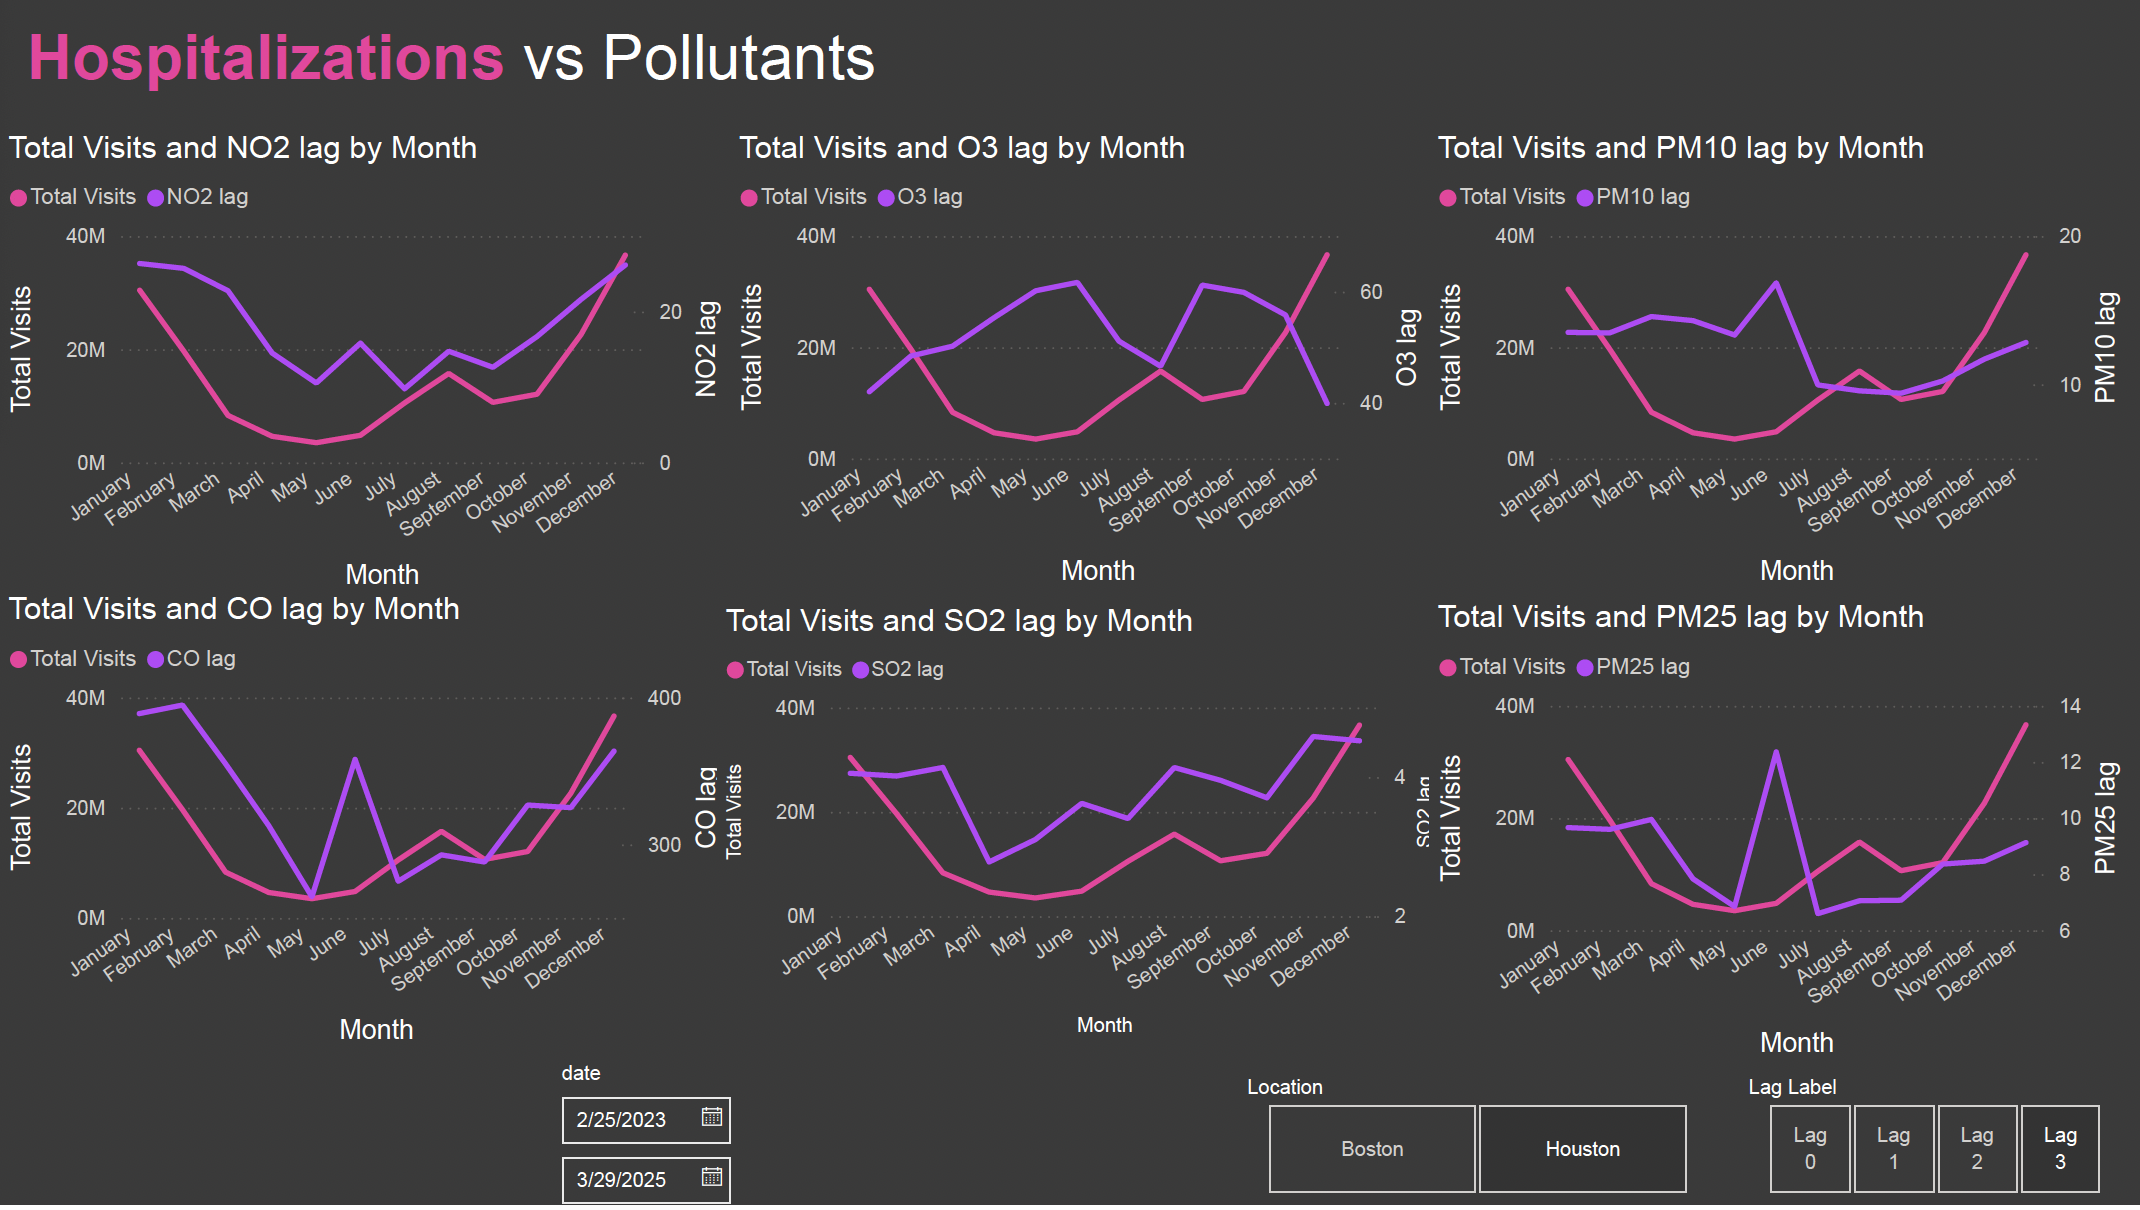

This screenshot's page, from the dashboard's own definition file:
{"tool":"powerbi","page":{"name":"Pollutants","canvas":[1280,720],"ordinal":2},"visuals":[{"type":"lineChart","fields":{"Category":["Combined.date.Variation.Date Hierarchy.Year","Combined.date.Variation.Date Hierarchy.Quarter","Combined.date.Variation.Date Hierarchy.Month","Combined.date.Variation.Date Hierarchy.Day"],"Y":["Avg(Combined.total_visits_smoothed_combined)"],"Y2":["Combined.Selected NO2 Lag"]},"box":[0,77.3,436.6,280.7],"z":0},{"type":"lineChart","fields":{"Category":["Combined.date.Variation.Date Hierarchy.Year","Combined.date.Variation.Date Hierarchy.Quarter","Combined.date.Variation.Date Hierarchy.Month","Combined.date.Variation.Date Hierarchy.Day"],"Y":["Avg(Combined.total_visits_smoothed_combined)"],"Y2":["Combined.Selected CO Lag"]},"box":[0,353.3,436.6,277.2],"z":1000},{"type":"lineChart","fields":{"Category":["Combined.date.Variation.Date Hierarchy.Year","Combined.date.Variation.Date Hierarchy.Quarter","Combined.date.Variation.Date Hierarchy.Month","Combined.date.Variation.Date Hierarchy.Day"],"Y":["Avg(Combined.total_visits_smoothed_combined)"],"Y2":["Combined.Selected O3 Lag"]},"box":[436.6,77.3,418.7,278.4],"z":2000},{"type":"lineChart","fields":{"Category":["Combined.date.Variation.Date Hierarchy.Year","Combined.date.Variation.Date Hierarchy.Quarter","Combined.date.Variation.Date Hierarchy.Month","Combined.date.Variation.Date Hierarchy.Day"],"Y":["Avg(Combined.total_visits_smoothed_combined)"],"Y2":["Combined.Selected SO2 Lag"]},"box":[428.6,360,435.7,264.3],"z":3000},{"type":"lineChart","fields":{"Category":["Combined.date.Variation.Date Hierarchy.Year","Combined.date.Variation.Date Hierarchy.Quarter","Combined.date.Variation.Date Hierarchy.Month","Combined.date.Variation.Date Hierarchy.Day"],"Y":["Avg(Combined.total_visits_smoothed_combined)"],"Y2":["Combined.Selected PM10 Lag"]},"box":[855.3,77.3,418.7,278.4],"z":4000},{"type":"lineChart","fields":{"Category":["Combined.date.Variation.Date Hierarchy.Year","Combined.date.Variation.Date Hierarchy.Quarter","Combined.date.Variation.Date Hierarchy.Month","Combined.date.Variation.Date Hierarchy.Day"],"Y":["Avg(Combined.total_visits_smoothed_combined)"],"Y2":["Combined.Selected PM25 Lag"]},"box":[855.3,358.1,418.7,279.6],"z":5000},{"type":"slicer","fields":{"Values":["Combined.date"]},"box":[261.7,643.6,440.1,76.1],"z":6000},{"type":"slicer","fields":{"Values":["Combined.Location"]},"box":[732.8,637.6,299.8,82.1],"z":7000},{"type":"slicer","fields":{"Values":["LagSelector.Lag Label"]},"box":[1032.6,637.6,247.4,82.1],"z":8000},{"type":"textbox","box":[10.7,8.3,1241.9,58.3],"z":9000}]}

Visuals, with their boxes in screenshot pixels (x1, y1, x2, y2), scaled from the page's 1280x720 canvas onto the 2140x1210 screenshot:
lineChart - Combined.date.Variation.Date Hierarchy.Year x Combined.date.Variation.Date Hierarchy.Quarter: box(0, 130, 730, 602)
lineChart - Combined.date.Variation.Date Hierarchy.Year x Combined.date.Variation.Date Hierarchy.Quarter: box(0, 594, 730, 1060)
lineChart - Combined.date.Variation.Date Hierarchy.Year x Combined.date.Variation.Date Hierarchy.Quarter: box(730, 130, 1430, 598)
lineChart - Combined.date.Variation.Date Hierarchy.Year x Combined.date.Variation.Date Hierarchy.Quarter: box(717, 605, 1445, 1049)
lineChart - Combined.date.Variation.Date Hierarchy.Year x Combined.date.Variation.Date Hierarchy.Quarter: box(1430, 130, 2130, 598)
lineChart - Combined.date.Variation.Date Hierarchy.Year x Combined.date.Variation.Date Hierarchy.Quarter: box(1430, 602, 2130, 1072)
slicer - Combined.date: box(438, 1082, 1173, 1209)
slicer - Combined.Location: box(1225, 1072, 1726, 1209)
slicer - LagSelector.Lag Label: box(1726, 1072, 2139, 1209)
textbox: box(18, 14, 2094, 112)
